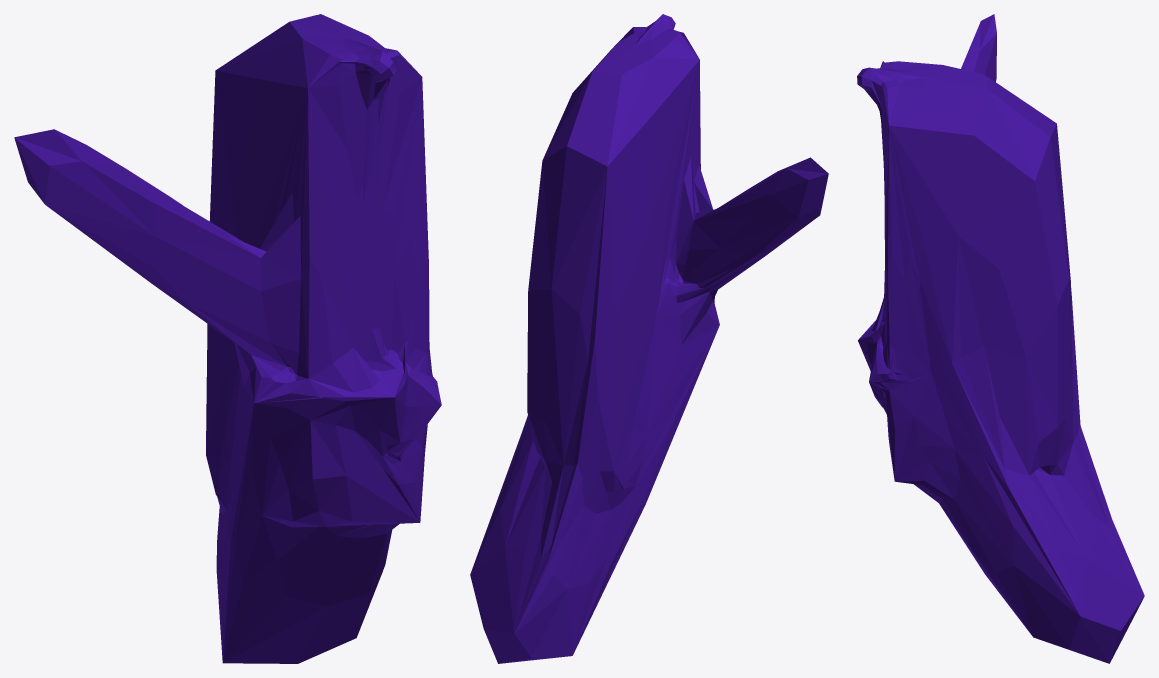
3 views of the same model, side by side, from view 1: azimuth 30°, elevation 25°; view 2: azimuth 150°, elevation 25°; view 3: azimuth 270°, elevation 25° (orthographic). The views are drawn at different scales.
Parts seen in each view (by area): view 1: 354_Cube.1447; view 2: 354_Cube.1447; view 3: 354_Cube.1447.
Part boxes in pixels (x1,y1,x2,y2): 354_Cube.1447: (14,14,441,663); 354_Cube.1447: (470,14,828,663); 354_Cube.1447: (857,14,1144,663).
Size of the model in its own units: 10.33 by 17.92 by 8.13.
